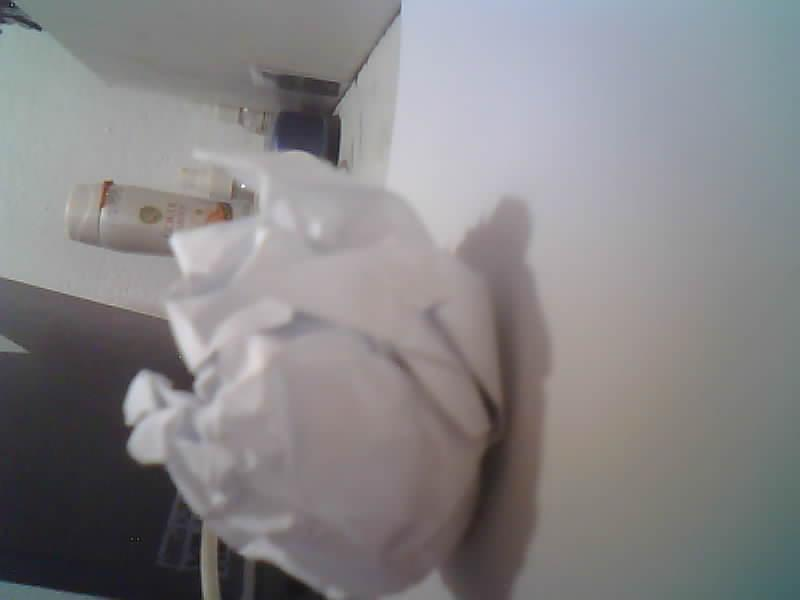biodegradable: (123, 152, 505, 599)
